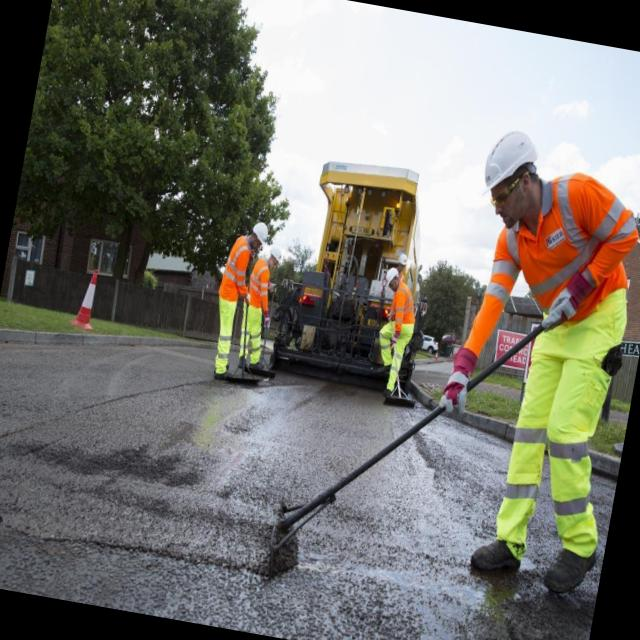helmet: (476, 122, 546, 207), (246, 218, 272, 252), (382, 264, 402, 292), (264, 244, 283, 268)
vest: (486, 181, 640, 334), (218, 230, 252, 299), (383, 280, 422, 328), (246, 256, 274, 310)
